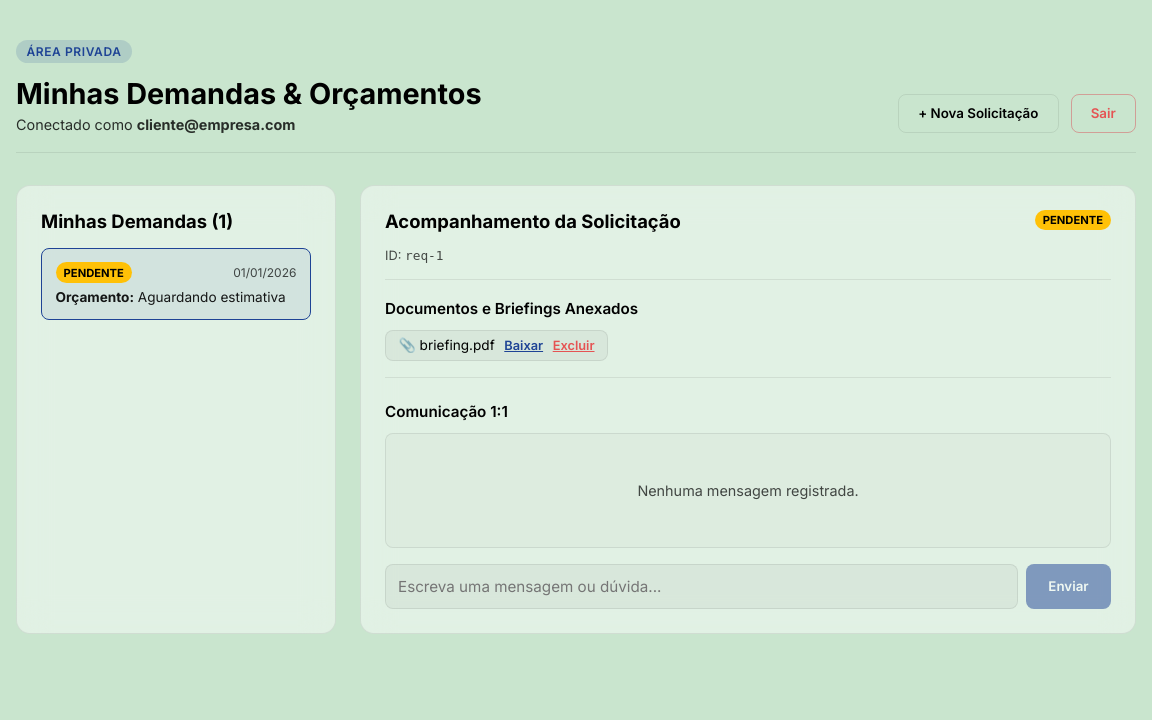
Test: Portal Component (Área Privada do Cliente) › Exclusão de Anexos (LGPD — Issue #17) › mantém o anexo e exibe erro quando a exclusão do storage falha
This screenshot has width=1152, height=720.
Click the button with aria-label "Excluir briefing.pdf". click: (574, 345)
box: [553, 338, 594, 353]
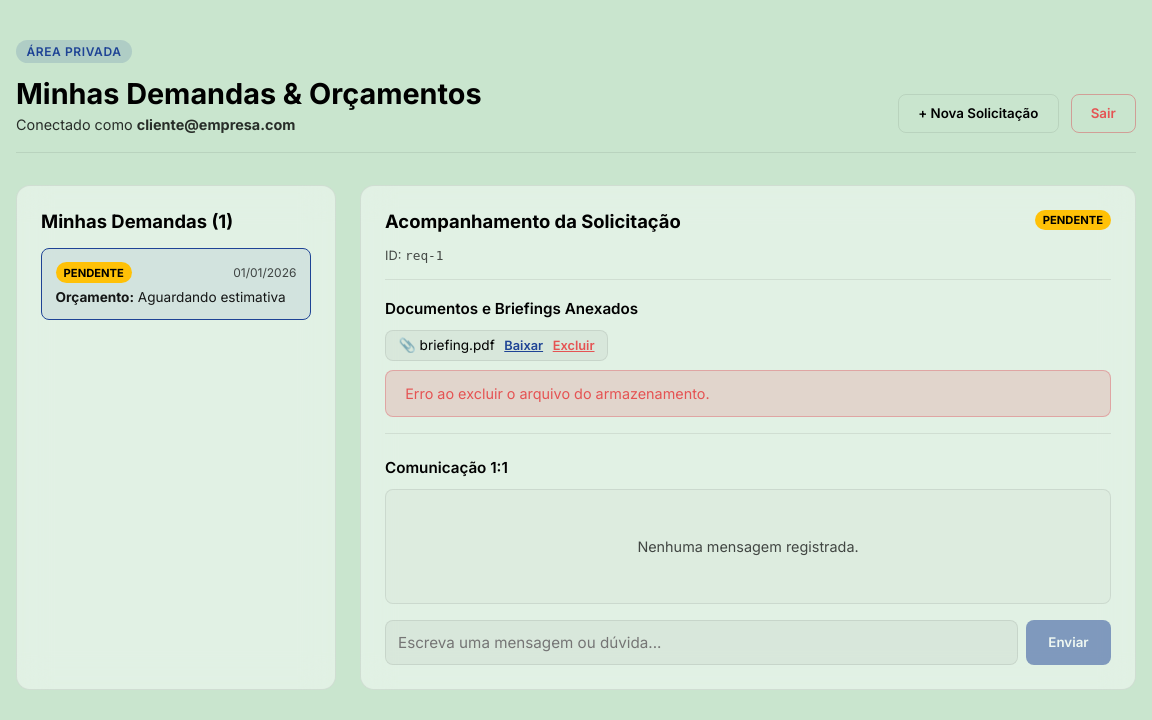
expect the text "📎 briefing.pdf" is shown: met, box [399, 337, 495, 353]
expect the text "Erro ao excluir o arquivo do armazenamento." is shown: met, box [385, 370, 1111, 416]
